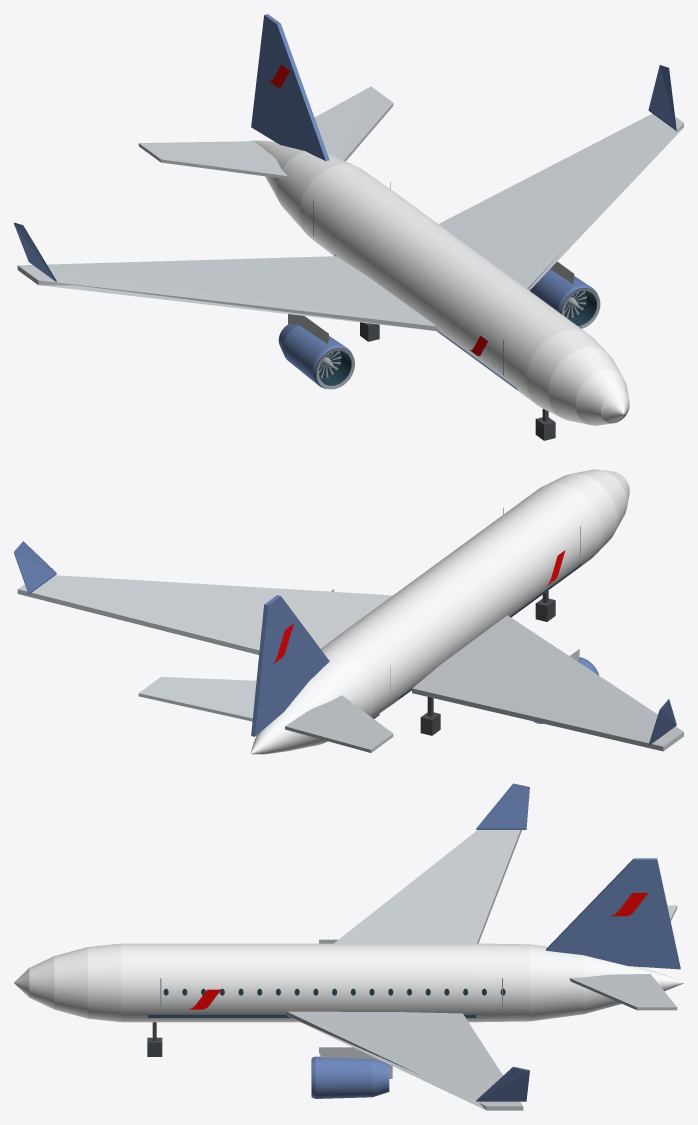
Rendered from a319-AFR-v3.gltf.
3 views of the same model, one above another, from view 1: azimuth 30°, elevation 25°; view 2: azimuth 150°, elevation 25°; view 3: azimuth 270°, elevation 25° (orthographic). The views are drawn at different scales.
Parts seen in each view (by area): view 1: object 1, Gear; view 2: object 1, Gear; view 3: object 1.
Part boxes in pixels (x1,y1,x2,y2): object 1: (14,14,683,425); Gear: (360,322,555,440); object 1: (14,469,683,754); Gear: (373,590,555,735); object 1: (14,783,683,1110).
Size of the model in its own units: 34 by 10.93 by 34.
Materials: 8 (1 with a texture image).
